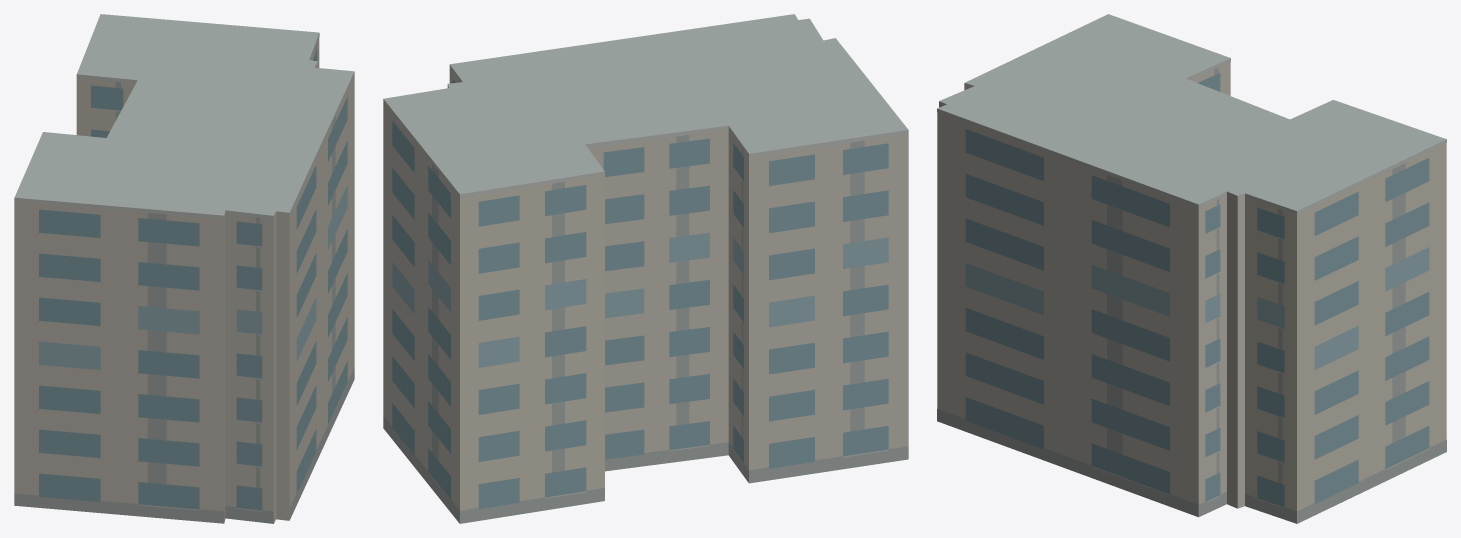
Rendered from survey-upis-32944348.glb.
3 renders of one model, left to right at view 1: azimuth 30°, elevation 25°; view 2: azimuth 150°, elevation 25°; view 3: azimuth 270°, elevation 25°, orthographic. The views are drawn at different scales.
Visible parts, largest first — view 1: survey-upis-32944348.tmp; view 2: survey-upis-32944348.tmp; view 3: survey-upis-32944348.tmp.
Boxes of the visible parts, x1,y1,x2,y2 form: survey-upis-32944348.tmp: (14, 14, 354, 523); survey-upis-32944348.tmp: (383, 14, 908, 523); survey-upis-32944348.tmp: (937, 14, 1446, 523).
Bounding box in the file's own units: 27.05 × 20 × 29.54.
